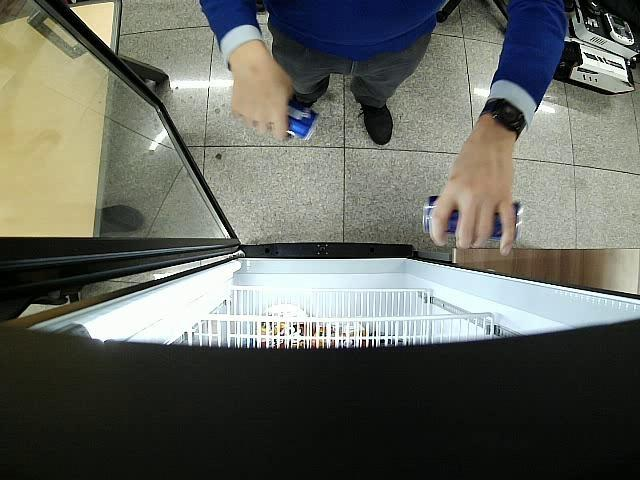16_hot6: (423, 196, 523, 243), (286, 100, 321, 140)
